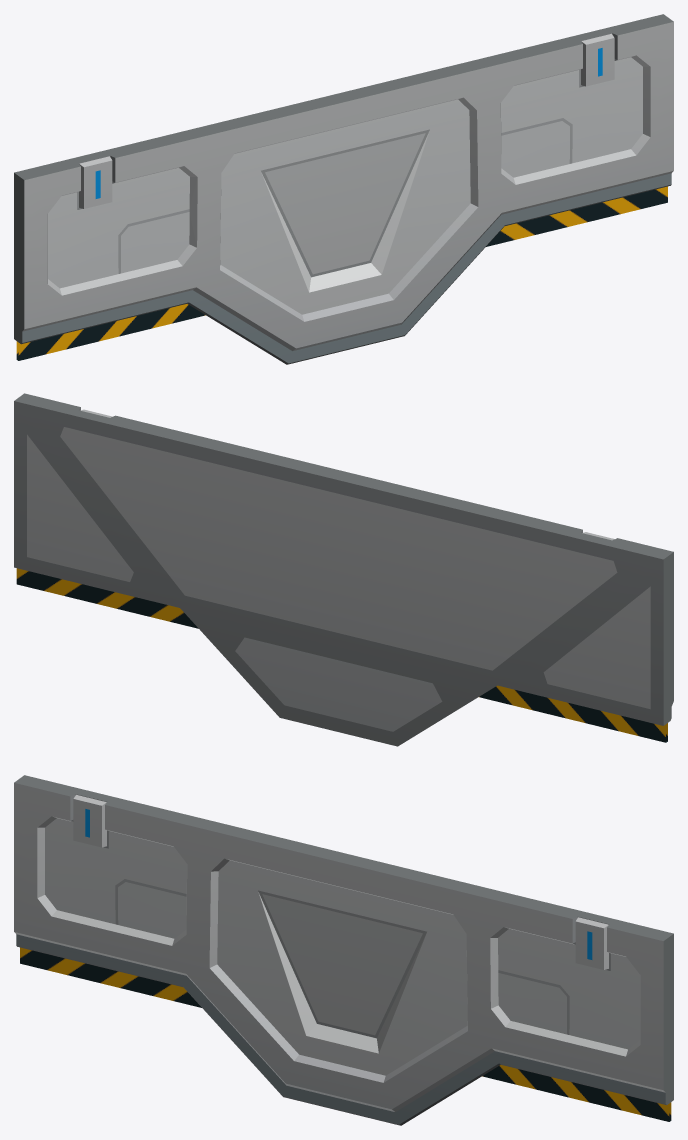
Rendered from Door_panel_013.fbx.
3 renders of one model, top to bottom at view 1: azimuth 30°, elevation 25°; view 2: azimuth 150°, elevation 25°; view 3: azimuth 330°, elevation 25°, orthographic.
Visible parts, largest first — view 1: Door_panel_013; view 2: Door_panel_013; view 3: Door_panel_013.
Part boxes in pixels (x1,y1,x2,y2): Door_panel_013: (14, 14, 673, 364); Door_panel_013: (14, 393, 673, 746); Door_panel_013: (14, 775, 673, 1125).
Size of the model in its own units: 500 by 13.92 by 185.
